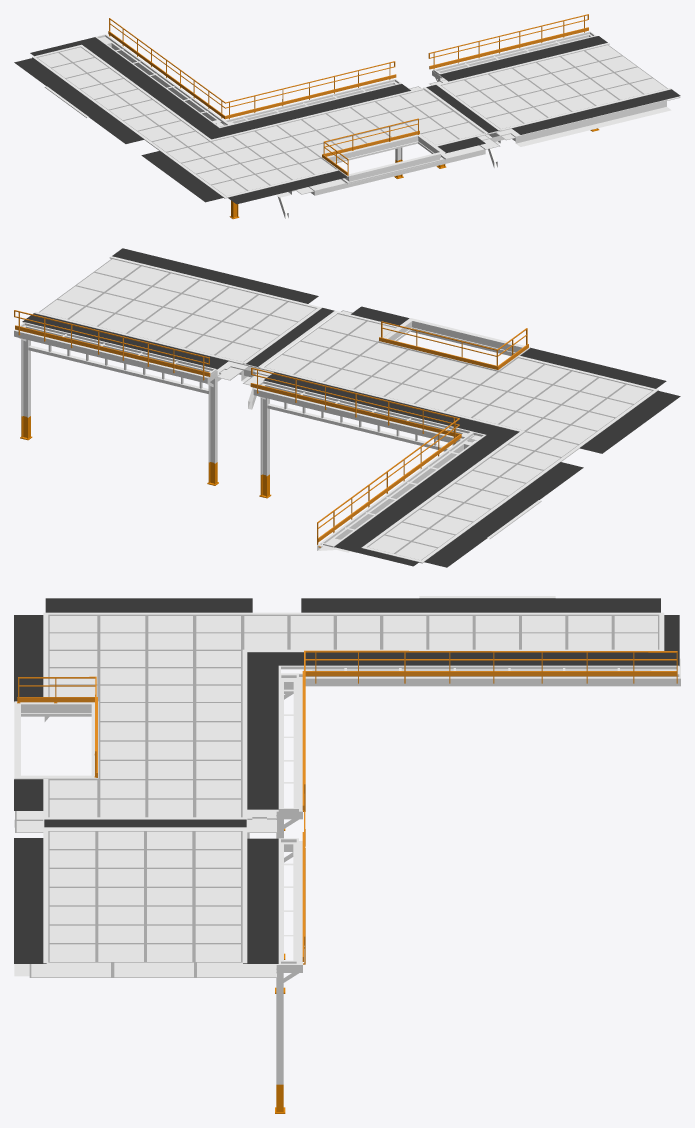
Rendered from SM_H_Building_Tide_Dock_08a_ATLAS.fbx.
The picture shows the model from 3 angles, top to bottom: view 1: azimuth 30°, elevation 25°; view 2: azimuth 150°, elevation 25°; view 3: azimuth 270°, elevation 25°; orthographic projection. The views are drawn at different scales.
Parts seen in each view (by area): view 1: SM_H_Building_Tide_Dock_08a_ATLAS; view 2: SM_H_Building_Tide_Dock_08a_ATLAS; view 3: SM_H_Building_Tide_Dock_08a_ATLAS.
Boxes of the visible parts, box(x1,y1,x2,y2) form: SM_H_Building_Tide_Dock_08a_ATLAS: box(14, 14, 680, 219); SM_H_Building_Tide_Dock_08a_ATLAS: box(14, 248, 680, 567); SM_H_Building_Tide_Dock_08a_ATLAS: box(14, 596, 680, 1113).
Size of the model in its own units: 3099 by 2354 by 689.
